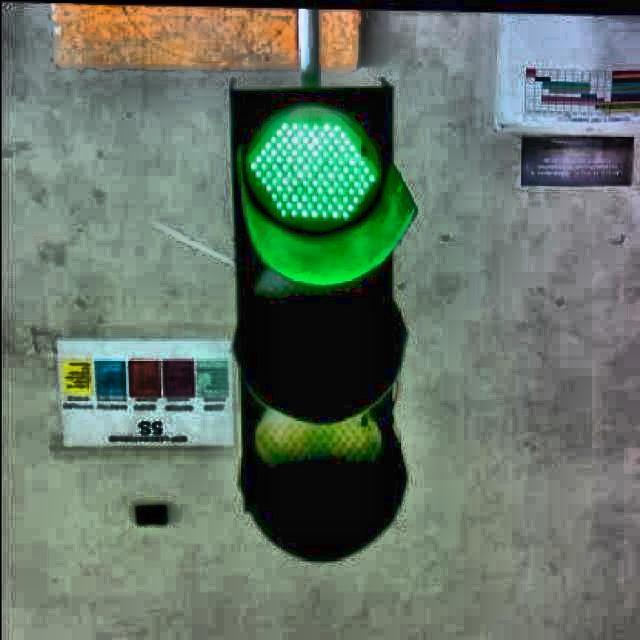green: (229, 84, 394, 549)
